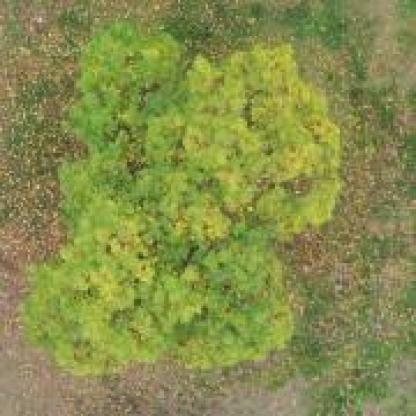Deciduous Tree: (32, 26, 349, 370)
